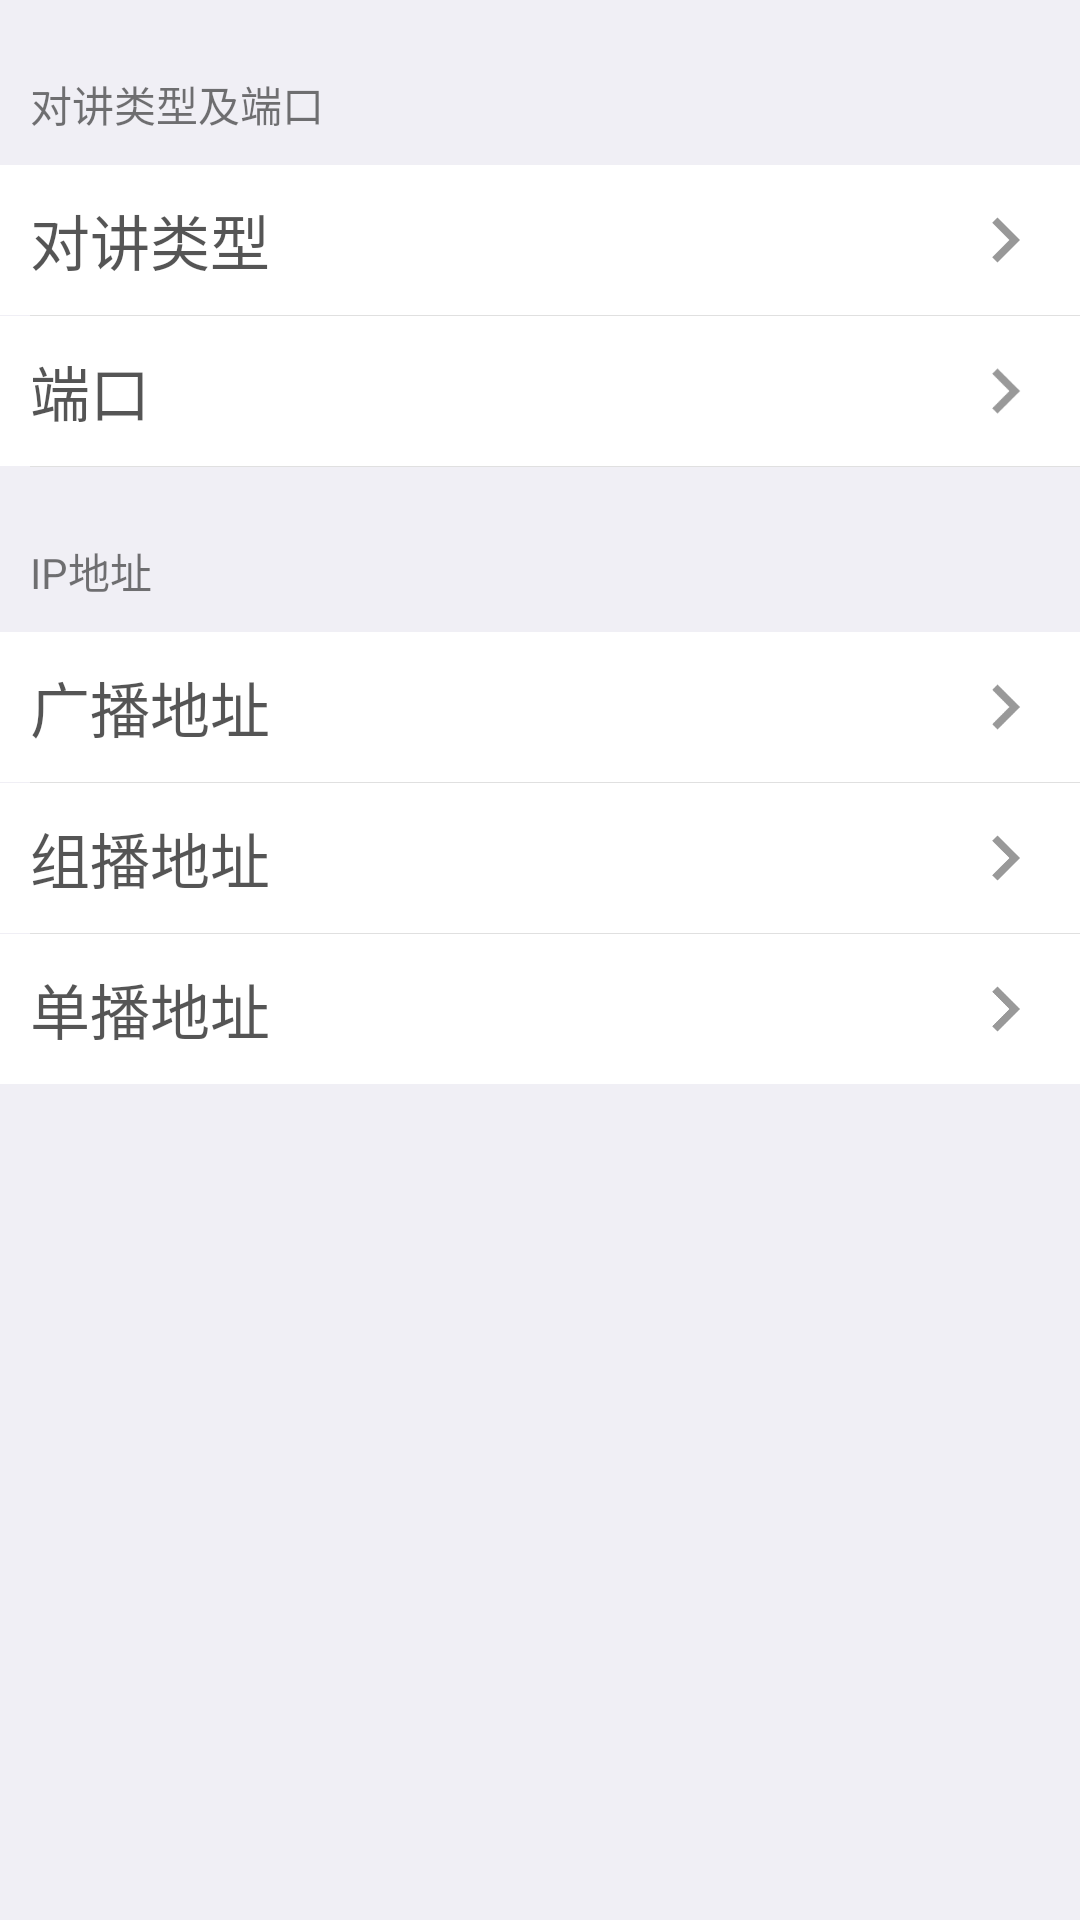

Icons on this 1080x1920 Android screen, each with the point to tap as [x,y]:
chevron right: [1006,240], [1006,391], [1006,707], [1006,858], [1006,1009]
